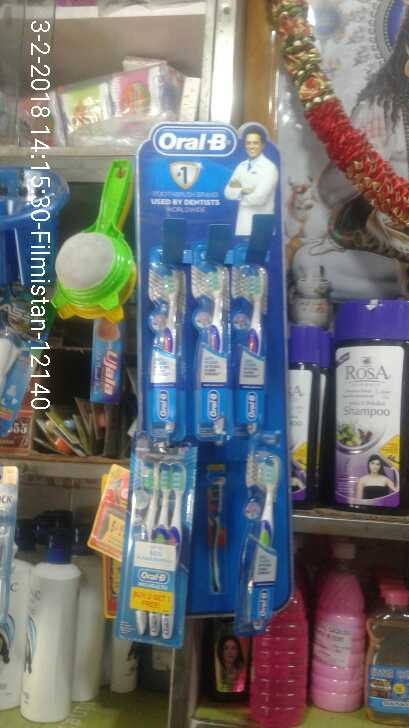oralb: (123, 441, 203, 643), (232, 452, 283, 630), (187, 255, 230, 436), (231, 262, 277, 428), (145, 256, 181, 443)
